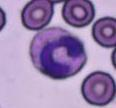N: (29, 26, 88, 78)
